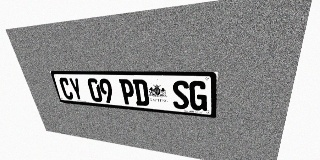0: (86, 78, 103, 102)
9: (98, 78, 115, 103)
C: (58, 77, 74, 100)
D: (132, 79, 150, 106)
G: (189, 81, 207, 111)
P: (119, 79, 136, 105)
S: (172, 80, 189, 110)
Y: (68, 78, 84, 101)
